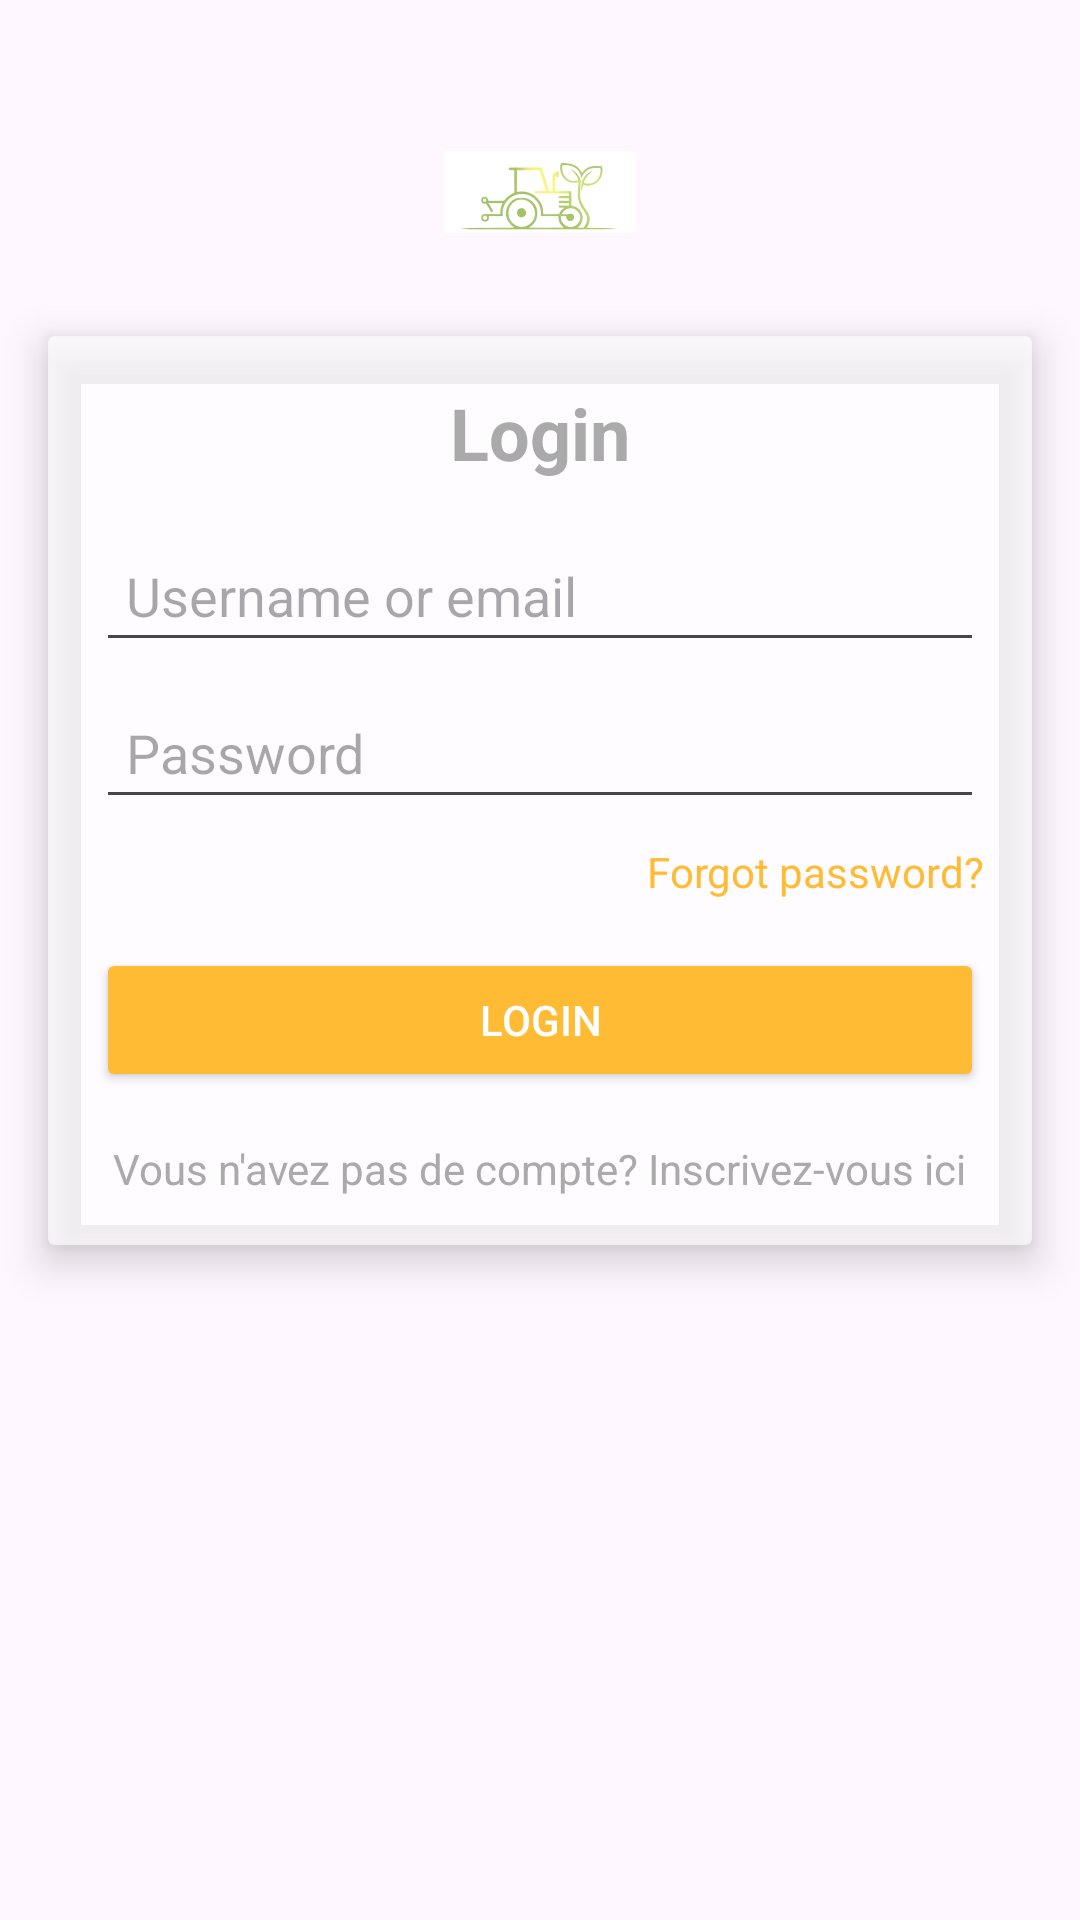

Locate icon controls on the screen. Image size 1080w x 1920h, boxes as (x1, y1, x2, y2).
tracteur: (462, 163, 615, 230)
